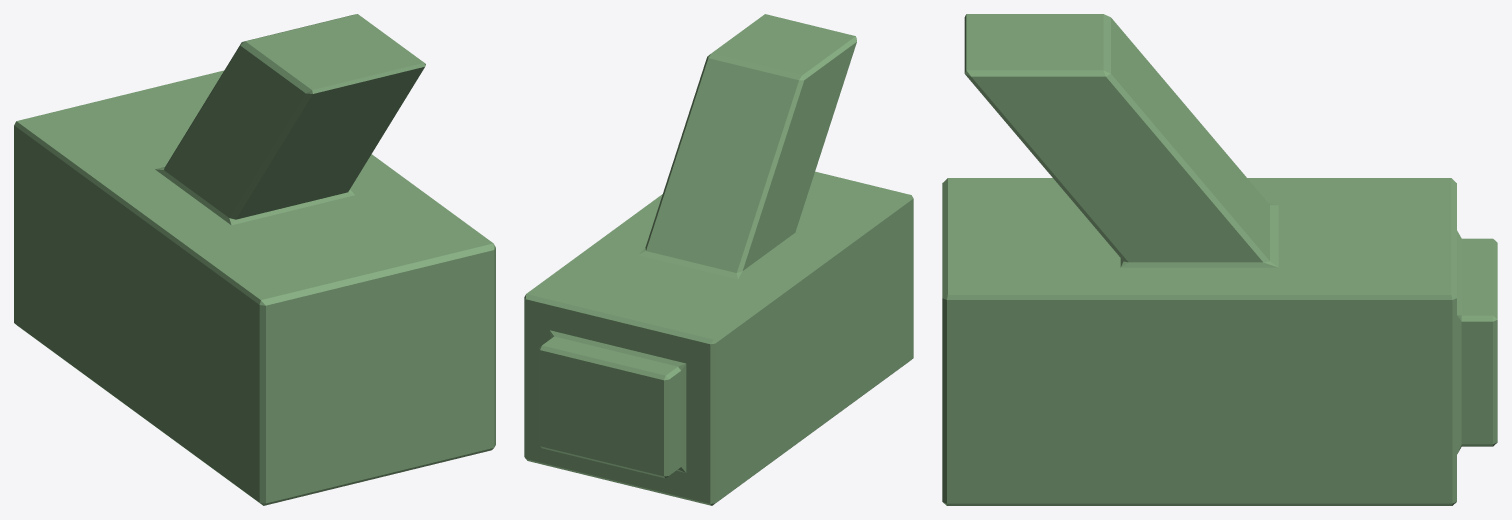
File: securityCam.fbx
3 views of the same model, side by side, from view 1: azimuth 30°, elevation 25°; view 2: azimuth 150°, elevation 25°; view 3: azimuth 270°, elevation 25° (orthographic). The views are drawn at different scales.
Visible parts, largest first — view 1: camera; view 2: camera; view 3: camera.
Boxes of the visible parts, <box> form: camera: <box>14,14,495,505</box>; camera: <box>524,14,913,505</box>; camera: <box>942,14,1497,505</box>.
Size of the model in its own units: 60 by 95.81 by 119.
